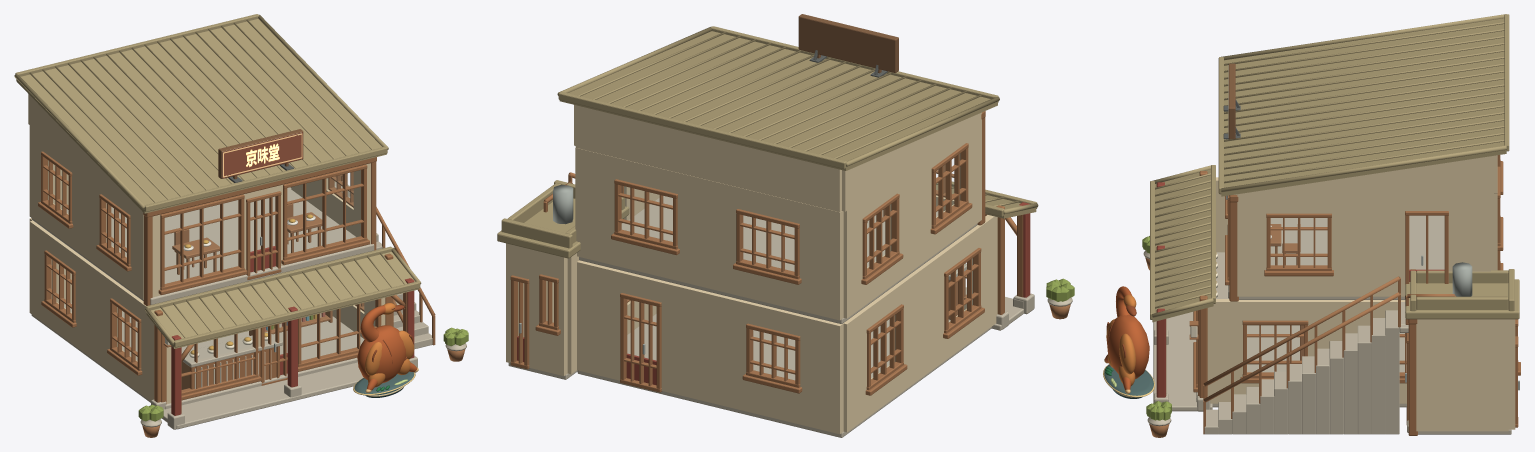
3 renders of one model, left to right at view 1: azimuth 30°, elevation 25°; view 2: azimuth 150°, elevation 25°; view 3: azimuth 270°, elevation 25°, orthographic. The views are drawn at different scales.
Parts seen in each view (by area): view 1: SM_07_02_曲面屋顶, SM_07_01_建筑墙体, SM_07_04_门窗楼梯, SM_07_03_木构回廊, SM_07_06_景观设施, SM_07_06_门前充气招牌, SM_07_05_景观植物; view 2: SM_07_01_建筑墙体, SM_07_02_曲面屋顶, SM_07_04_门窗楼梯, SM_07_03_木构回廊, SM_07_05_景观植物; view 3: SM_07_02_曲面屋顶, SM_07_01_建筑墙体, SM_07_04_门窗楼梯, SM_07_03_木构回廊, SM_07_06_门前充气招牌, SM_07_06_景观设施, SM_07_05_景观植物.
Part boxes in pixels (x1,y1,x2,y2): SM_07_02_曲面屋顶: [14, 14, 421, 348]; SM_07_01_建筑墙体: [28, 94, 385, 429]; SM_07_04_门窗楼梯: [38, 129, 435, 400]; SM_07_03_木构回廊: [143, 157, 417, 429]; SM_07_06_景观设施: [172, 203, 332, 397]; SM_07_06_门前充气招牌: [353, 303, 418, 397]; SM_07_05_景观植物: [138, 327, 468, 437]; SM_07_01_建筑墙体: [506, 105, 1023, 437]; SM_07_02_曲面屋顶: [497, 26, 1038, 258]; SM_07_04_门窗楼梯: [510, 14, 984, 395]; SM_07_03_木构回廊: [623, 111, 1034, 329]; SM_07_05_景观植物: [1046, 278, 1074, 319]; SM_07_02_曲面屋顶: [1150, 14, 1519, 322]; SM_07_01_建筑墙体: [1153, 155, 1515, 434]; SM_07_04_门窗楼梯: [1189, 63, 1520, 434]; SM_07_03_木构回廊: [1154, 171, 1417, 435]; SM_07_06_门前充气招牌: [1103, 286, 1154, 398]; SM_07_06_景观设施: [1216, 224, 1303, 360]; SM_07_05_景观植物: [1142, 236, 1171, 437].
Size of the model in its own units: 10.72 by 7.49 by 10.62.
Materials: 29 (1 with a texture image).
